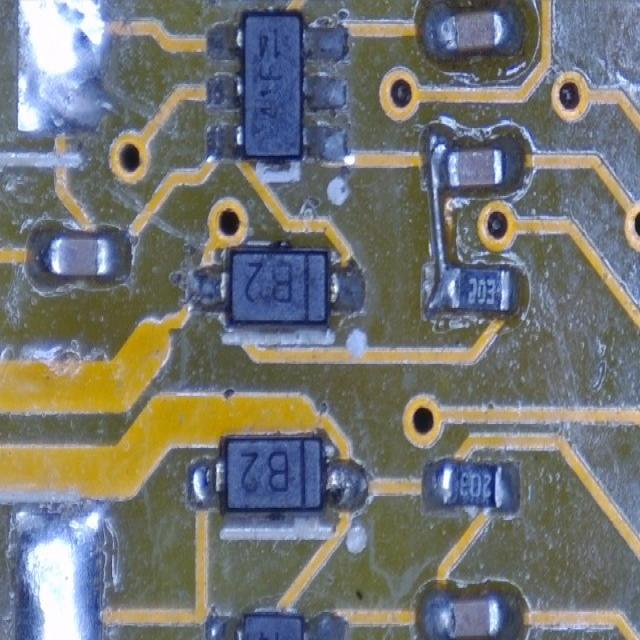Dry_joint: (327, 461, 366, 512), (304, 25, 348, 60), (425, 594, 454, 640), (207, 124, 244, 160), (308, 128, 347, 161), (332, 272, 364, 310), (308, 78, 347, 109), (206, 78, 237, 108), (208, 25, 236, 58)
Short_circuit: (424, 135, 461, 316)
